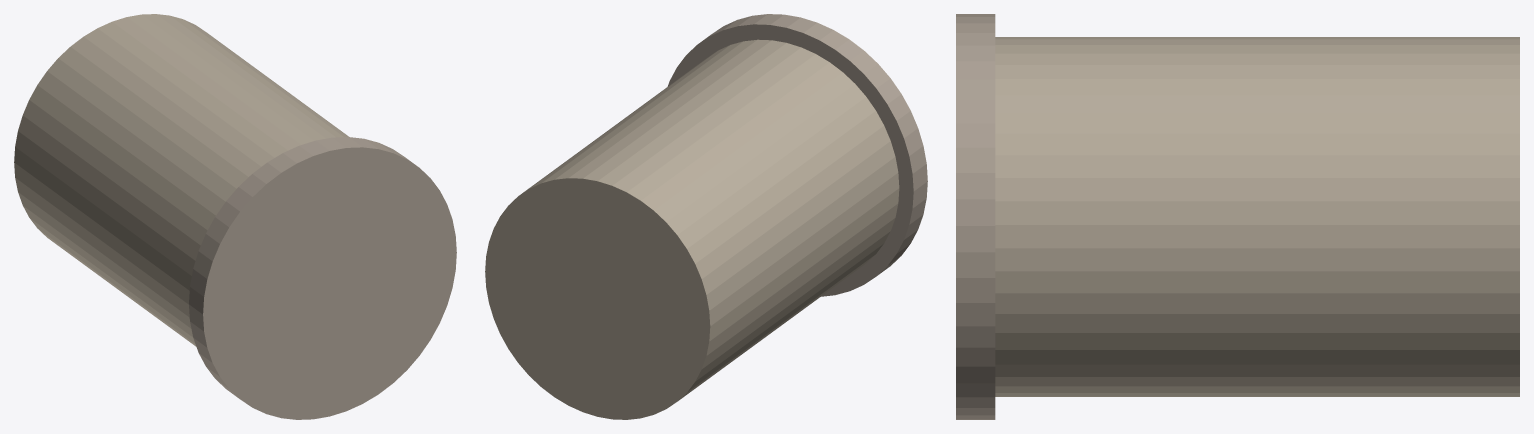
File: tower-bastion.glb
3 renders of one model, left to right at view 1: azimuth 30°, elevation 25°; view 2: azimuth 150°, elevation 25°; view 3: azimuth 270°, elevation 25°, orthographic. The views are drawn at different scales.
Parts seen in each view (by area): view 1: world, cylindrical_bastion; view 2: cylindrical_bastion, world; view 3: cylindrical_bastion, world.
Boxes of the visible parts, x1,y1,x2,y2 form: world: [189, 137, 456, 419]; cylindrical_bastion: [14, 14, 348, 346]; cylindrical_bastion: [485, 39, 899, 419]; world: [667, 14, 927, 296]; cylindrical_bastion: [995, 37, 1519, 396]; world: [956, 14, 995, 419].
Bounding box in the file's own units: 1.24 × 1.24 × 1.72.
